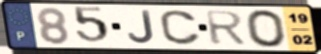5: (70, 6, 112, 47)
8: (35, 6, 72, 46)
C: (157, 9, 203, 46)
J: (126, 9, 157, 45)
O: (244, 8, 289, 49)
R: (203, 10, 248, 46)
